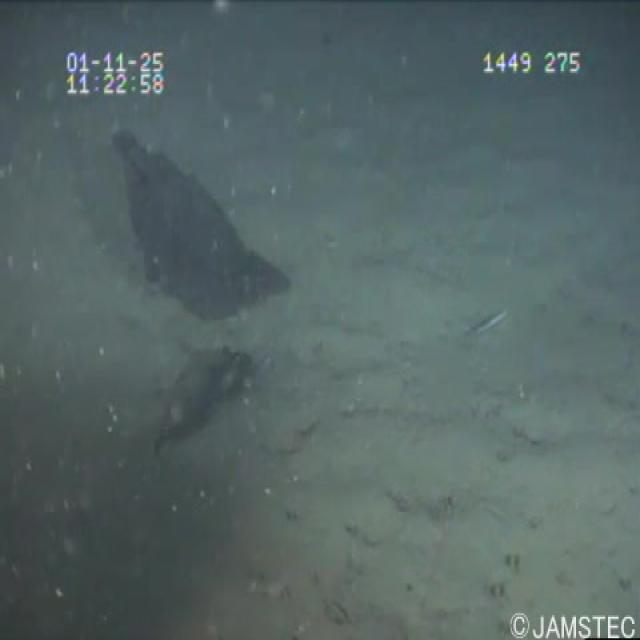plastic: (97, 121, 304, 325)
